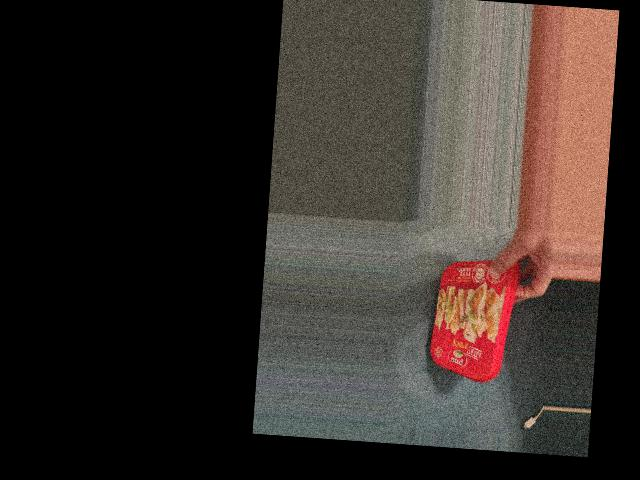cheese: (425, 259, 515, 377)
